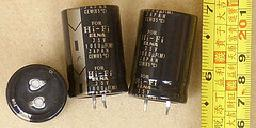Electrolytic-capacitor: (131, 3, 200, 118), (61, 4, 128, 100), (5, 63, 70, 124)
